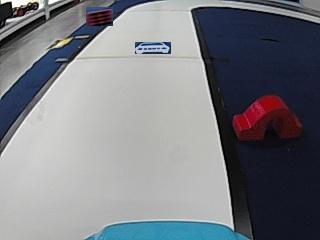bridge: (233, 96, 303, 140)
